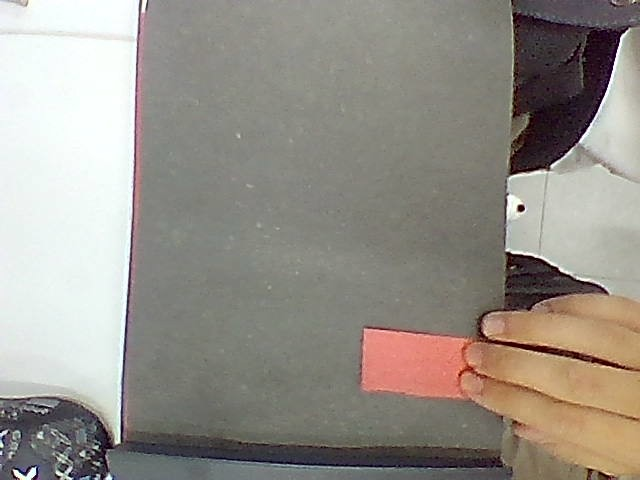card: (362, 328, 470, 397)
